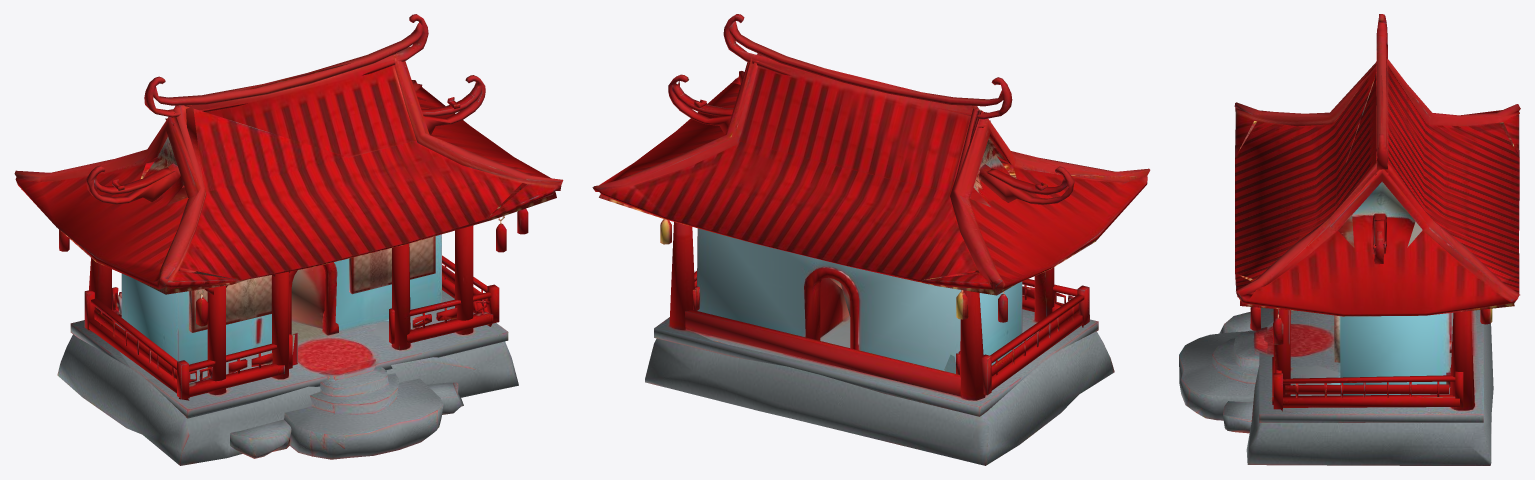
Rendered from pagoda.glb.
The picture shows the model from 3 angles, left to right: view 1: azimuth 30°, elevation 25°; view 2: azimuth 150°, elevation 25°; view 3: azimuth 270°, elevation 25°; orthographic projection. The views are drawn at different scales.
Size of the model in its own units: 0.9561 by 0.7217 by 0.7085.
Materials: 1 (1 with a texture image).
